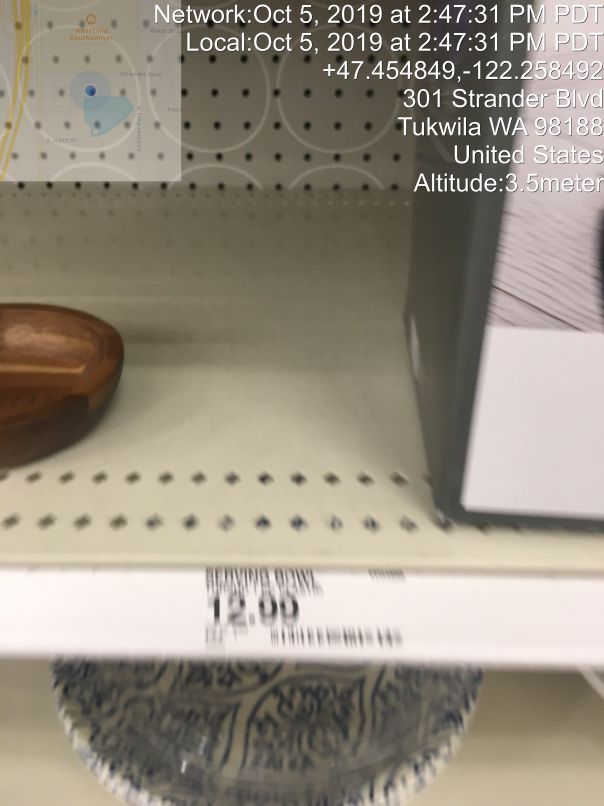Label: (190, 560, 426, 669)
Location: (390, 81, 604, 173)
Time: (143, 3, 604, 58)
Void: (23, 19, 398, 526)
